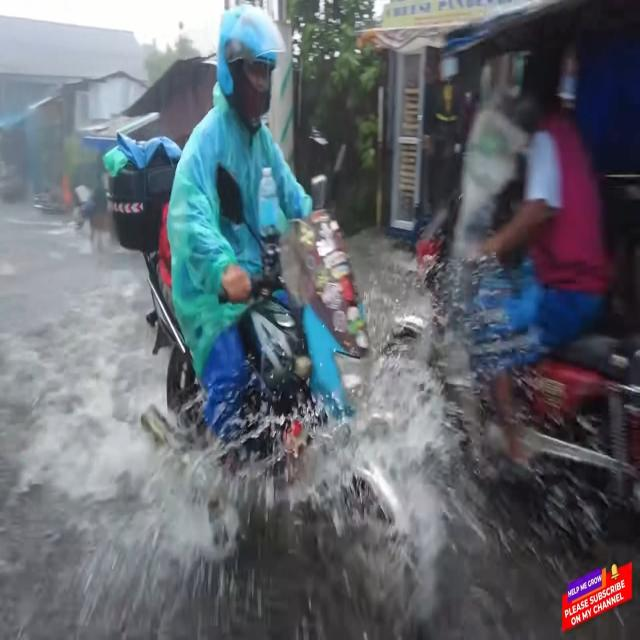half: (212, 1, 290, 132)
